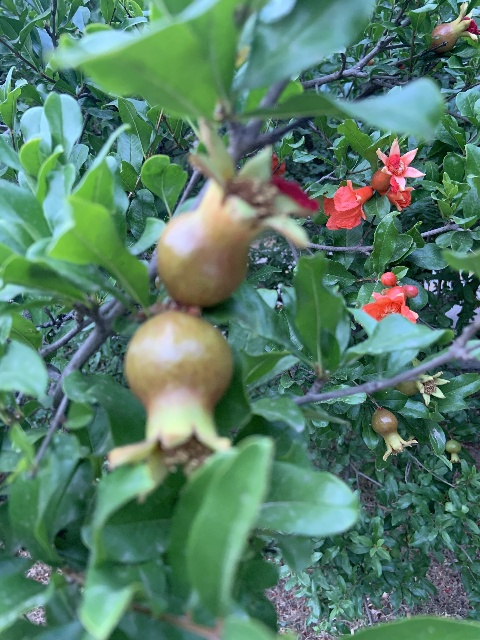bud: (380, 271, 396, 286), (401, 284, 418, 298)
early-fruit: (156, 124, 317, 307), (105, 312, 234, 499), (428, 2, 479, 57), (371, 407, 416, 459)
flower: (370, 138, 425, 191), (322, 179, 373, 229), (360, 286, 418, 323), (378, 186, 415, 211)
mid-growth: (394, 357, 450, 405), (444, 436, 462, 463)
